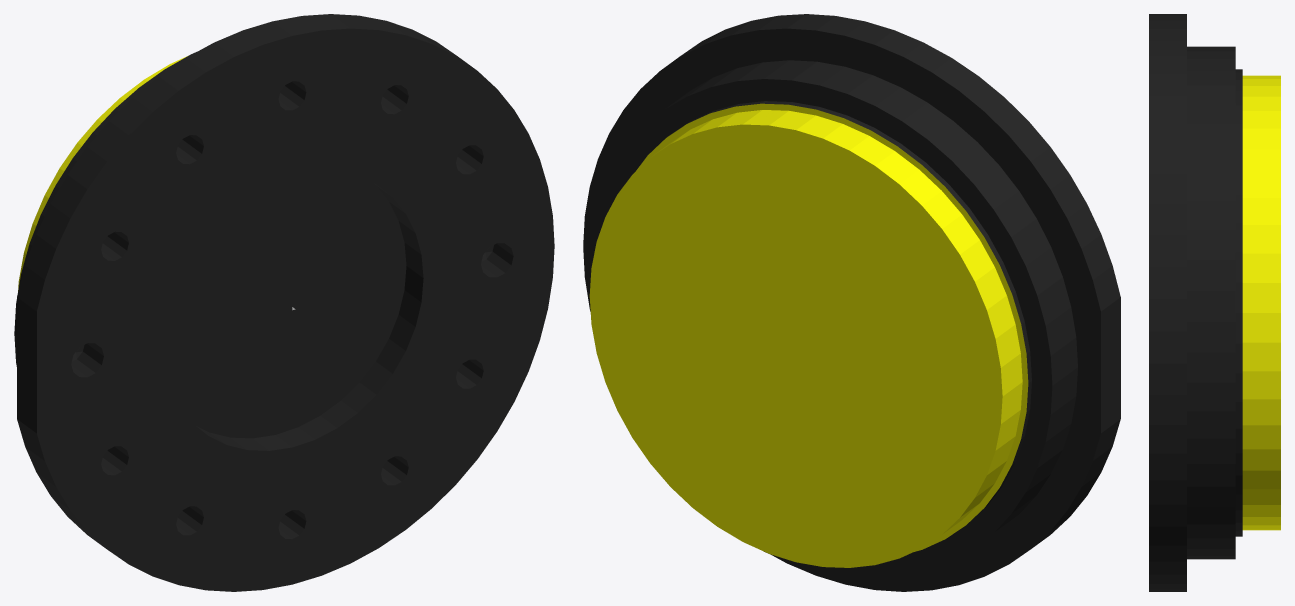
The picture shows the model from 3 angles, left to right: view 1: azimuth 30°, elevation 25°; view 2: azimuth 150°, elevation 25°; view 3: azimuth 270°, elevation 25°; orthographic projection. The views are drawn at different scales.
Visible parts, largest first — view 1: node; view 2: node; view 3: node.
Part boxes in pixels (left/top/right/bottom): node: left=14, top=14, right=554, bottom=591; node: left=583, top=14, right=1120, bottom=591; node: left=1149, top=14, right=1280, bottom=591.
Size of the model in its own units: 158 by 160 by 36.5.
